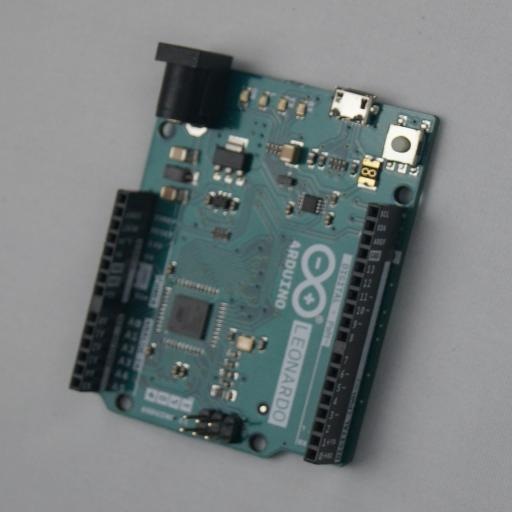Arduino Leonardo: (69, 42, 443, 469)
